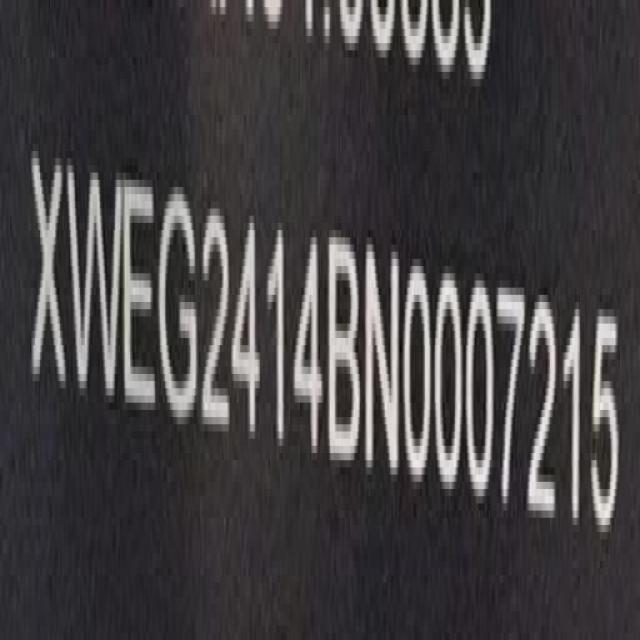0: (434, 274, 465, 501), (465, 269, 494, 506), (403, 264, 431, 476)
1: (263, 216, 290, 450), (562, 298, 585, 541)
2: (527, 293, 563, 522), (201, 213, 237, 440)
4: (292, 221, 324, 456), (231, 213, 261, 437)
5: (589, 298, 619, 538)
7: (498, 280, 525, 519)
B: (327, 229, 361, 485)
E: (124, 162, 159, 421)
G: (157, 168, 201, 431)
N: (364, 242, 403, 482)
W: (66, 154, 124, 400)
X: (28, 133, 68, 410)
